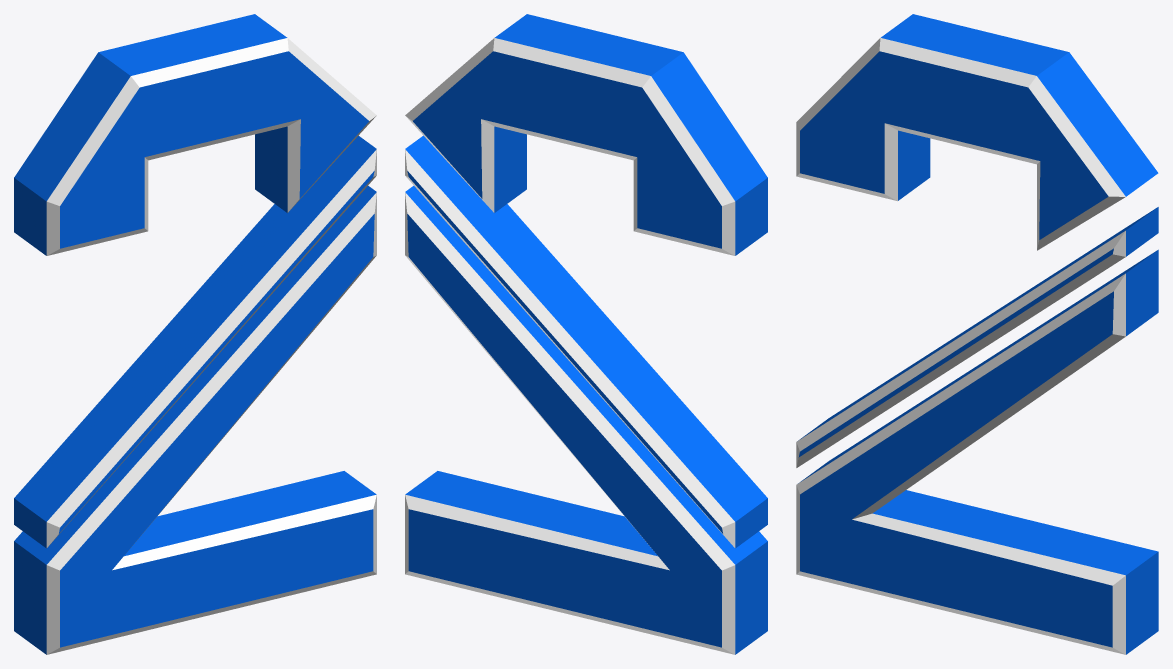
Rendered from number_2.fbx.
3 renders of one model, left to right at view 1: azimuth 30°, elevation 25°; view 2: azimuth 150°, elevation 25°; view 3: azimuth 330°, elevation 25°, orthographic.
Parts seen in each view (by area): view 1: 2; view 2: 2; view 3: 2.
Part boxes in pixels (left/top/right/bottom): 2: left=14, top=14, right=376, bottom=654; 2: left=405, top=14, right=767, bottom=654; 2: left=796, top=14, right=1158, bottom=654.
Bounding box in the file's own units: 117 × 189 × 26.
